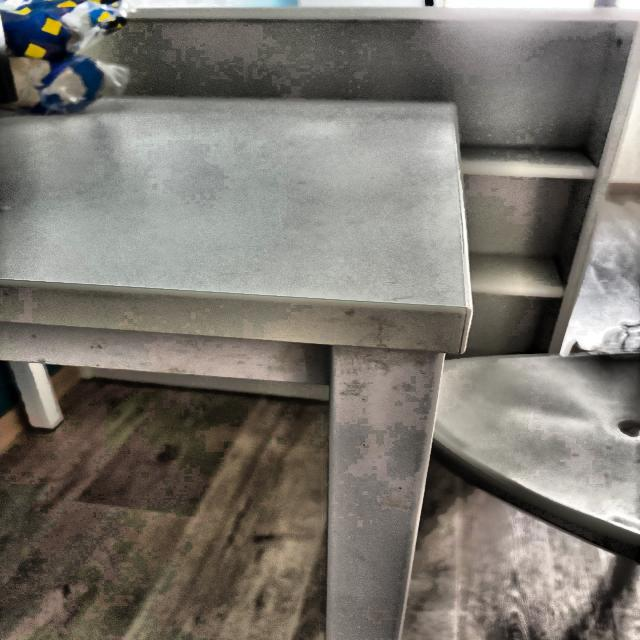mesa: (10, 75, 530, 605)
